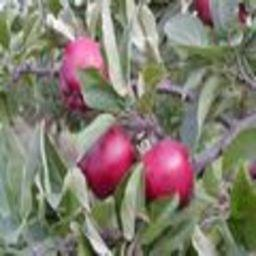apple: (78, 126, 135, 195), (58, 38, 105, 107), (141, 143, 194, 202)
